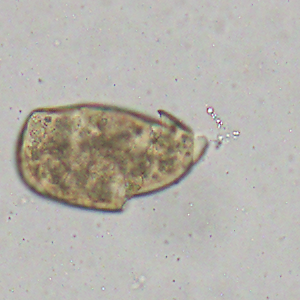Fasciola_hepatica_egg: (15, 101, 209, 213)
